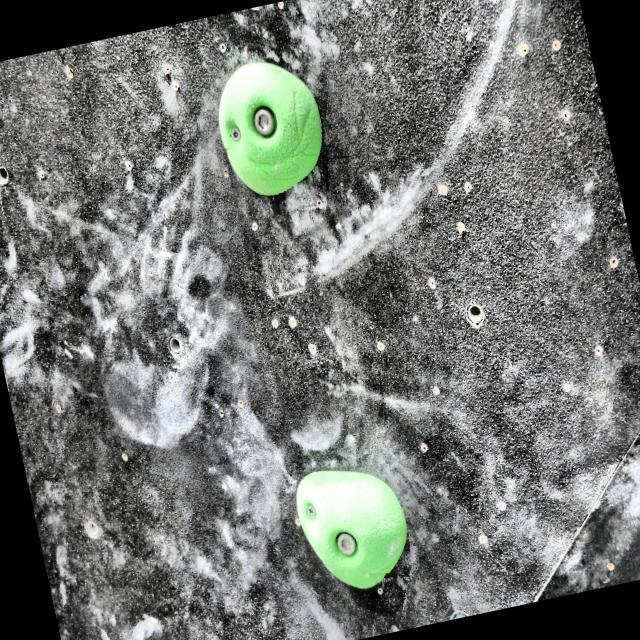Hold: (284, 440, 428, 618), (206, 44, 340, 205)
